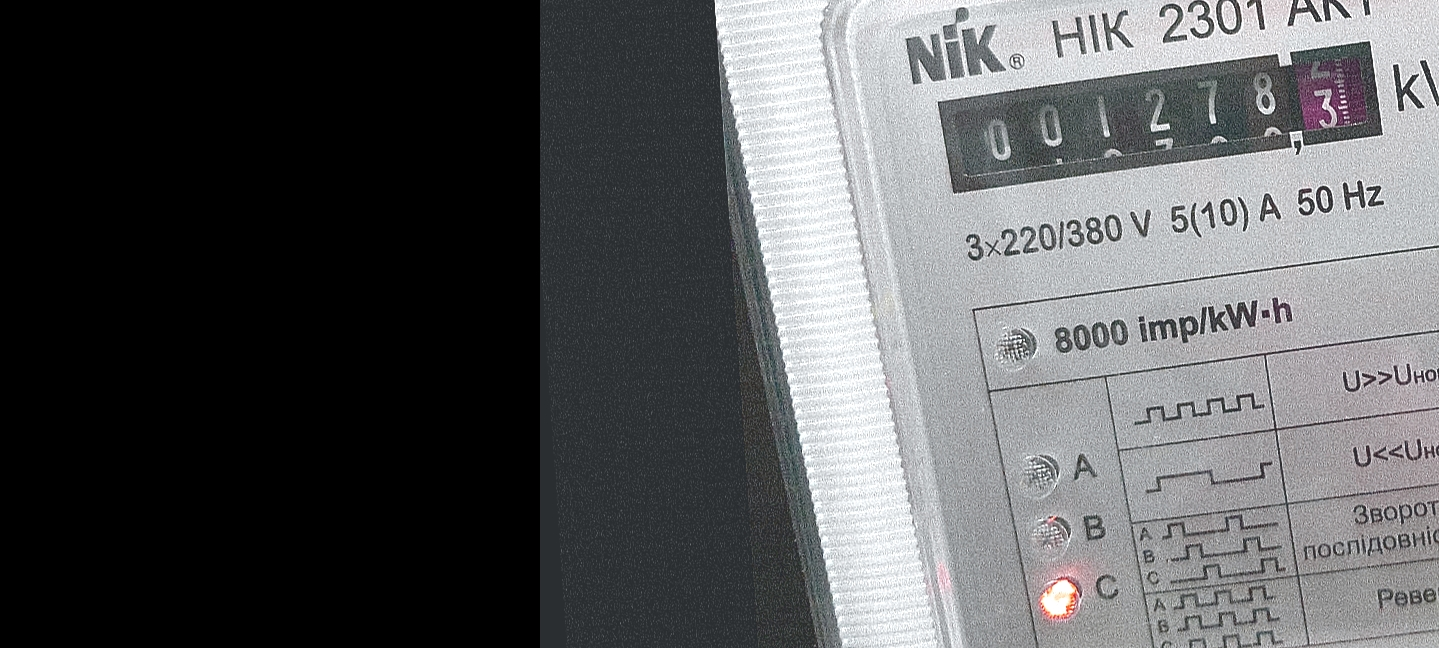0: (986, 113, 1017, 162), (1038, 100, 1066, 148)
1: (1096, 90, 1116, 140)
2: (1143, 84, 1174, 132), (1307, 57, 1335, 80)
3: (1313, 82, 1342, 128)
7: (1198, 76, 1223, 126)
8: (1252, 68, 1280, 117)
screen: (918, 28, 1403, 203)
